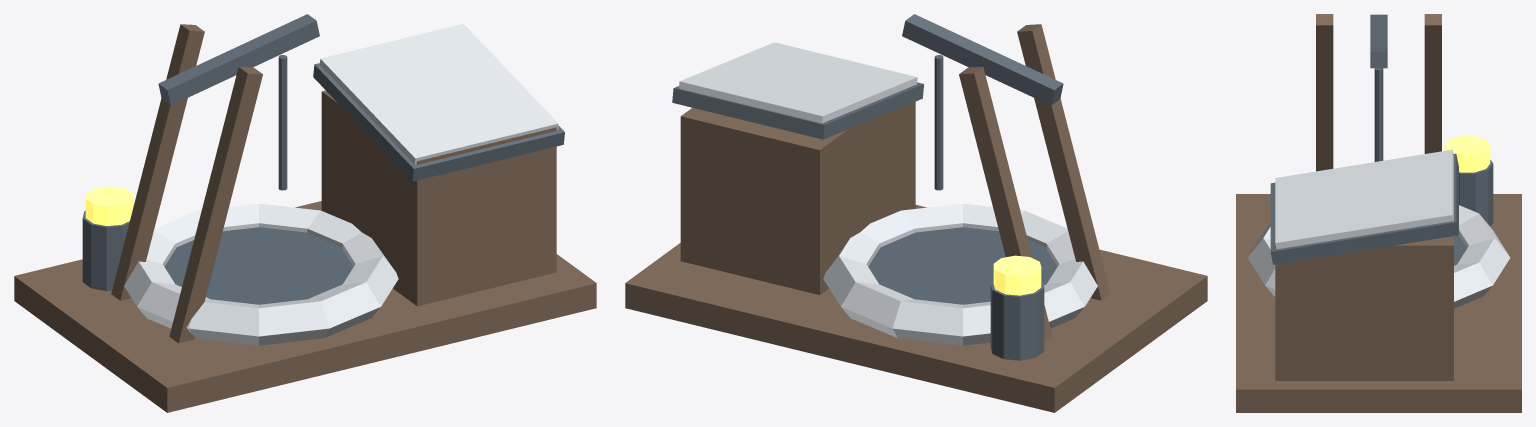
File: snow_pit.glb
3 views of the same model, side by side, from view 1: azimuth 30°, elevation 25°; view 2: azimuth 150°, elevation 25°; view 3: azimuth 270°, elevation 25° (orthographic). The views are drawn at different scales.
Parts seen in each view (by area): view 1: snow_pit_Building; view 2: snow_pit_Building; view 3: snow_pit_Building.
Part boxes in pixels (x1,y1,x2,y2): snow_pit_Building: (14,14,596,412); snow_pit_Building: (625,14,1207,412); snow_pit_Building: (1236,14,1521,412).
Size of the model in its own units: 3.24 by 2.06 by 2.
